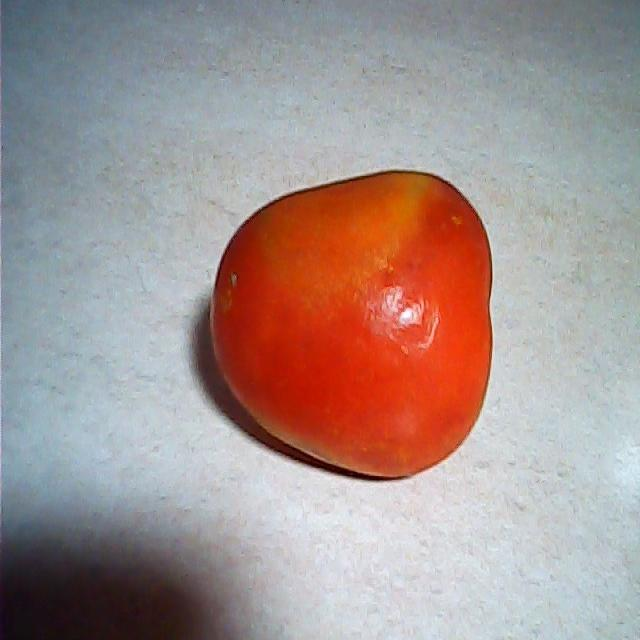maduro: (211, 168, 496, 481)
